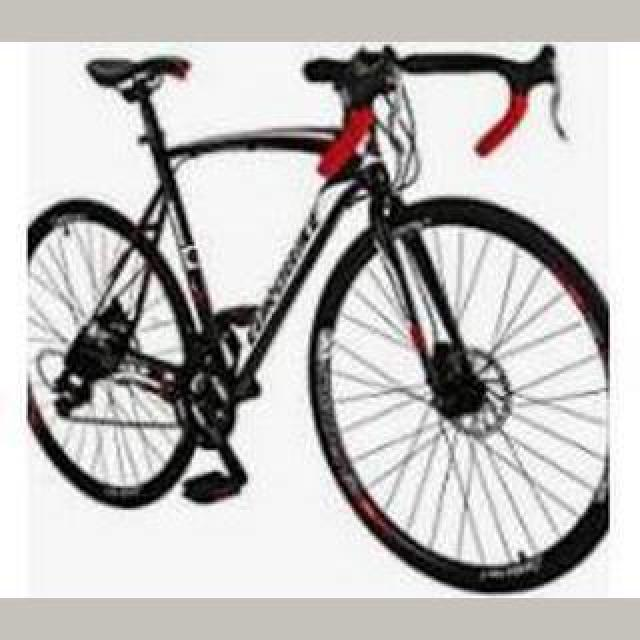Person: (22, 46, 618, 598)
